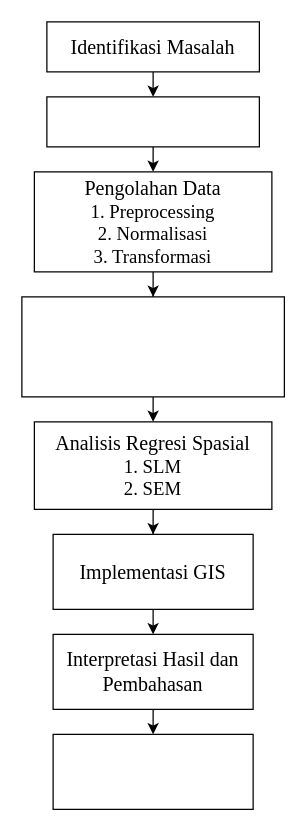
Image size: 306x831. Some labels were removed from this diagram. The box of each missing label's shape, as (x1, y1, x2, y2) in pixels:
Analisis Autokorelasi Spasial 1. Moran's I Global 2. LISA: (21, 296, 284, 397)
Kesimpulan dan Saran: (52, 733, 253, 809)
Pengumpulan Data: (46, 96, 259, 147)
